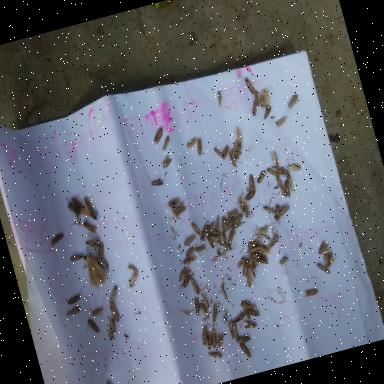pbw: (102, 314, 118, 342), (244, 268, 261, 290), (228, 146, 244, 168), (182, 240, 201, 258), (196, 222, 213, 242), (198, 324, 212, 346), (189, 296, 203, 318), (244, 74, 258, 96), (81, 217, 98, 235), (238, 341, 254, 360), (48, 232, 67, 248), (158, 153, 175, 170), (249, 94, 262, 116), (238, 259, 252, 279), (86, 316, 100, 336), (94, 240, 108, 260), (208, 302, 222, 322), (126, 270, 141, 288), (208, 326, 220, 348), (109, 302, 122, 322), (315, 238, 331, 254), (232, 143, 247, 160), (84, 237, 101, 252), (214, 330, 228, 348), (66, 292, 84, 306), (204, 330, 216, 350), (255, 224, 270, 240), (256, 90, 268, 110), (281, 179, 293, 199), (245, 173, 257, 193), (315, 260, 330, 276), (95, 254, 109, 271), (210, 233, 224, 250), (272, 203, 284, 222), (326, 251, 340, 267), (243, 188, 259, 202), (177, 266, 191, 282), (274, 164, 290, 178), (266, 164, 280, 180), (159, 136, 173, 152), (195, 136, 206, 156), (262, 90, 274, 108), (91, 306, 106, 320), (242, 317, 258, 330), (191, 221, 203, 238), (225, 231, 237, 248), (237, 194, 247, 214), (84, 194, 94, 214), (243, 200, 254, 218), (174, 202, 188, 216), (264, 203, 278, 217), (255, 169, 268, 184), (207, 348, 223, 360), (245, 238, 261, 250), (302, 286, 318, 298), (167, 196, 183, 208), (214, 146, 226, 162), (270, 148, 280, 167), (231, 139, 242, 156), (213, 215, 224, 232), (246, 306, 260, 319), (261, 106, 274, 120), (230, 320, 240, 338), (200, 302, 210, 320), (234, 334, 252, 344), (240, 298, 255, 310), (64, 306, 82, 316), (200, 292, 210, 310), (220, 144, 232, 159), (234, 127, 244, 145), (275, 116, 290, 128), (252, 90, 262, 108), (190, 278, 200, 296), (286, 174, 296, 192), (218, 216, 228, 233), (150, 178, 167, 188), (276, 175, 286, 192), (186, 137, 200, 149), (256, 256, 270, 268), (278, 204, 292, 216), (72, 196, 84, 210), (183, 255, 198, 266), (183, 235, 198, 246), (220, 284, 229, 302), (70, 252, 86, 262), (230, 220, 246, 230), (224, 219, 236, 232), (236, 256, 249, 268), (127, 263, 140, 275), (233, 311, 247, 322), (288, 162, 302, 173), (322, 253, 332, 268), (256, 250, 268, 262), (216, 90, 225, 106), (246, 252, 258, 264), (233, 212, 245, 224), (206, 235, 216, 249), (210, 228, 224, 238), (222, 231, 230, 248), (228, 322, 236, 339), (205, 222, 217, 233), (110, 318, 118, 334), (278, 256, 290, 266), (228, 208, 240, 218), (246, 246, 261, 254), (195, 244, 207, 253), (243, 309, 251, 320), (105, 378, 118, 384), (227, 214, 234, 220)
